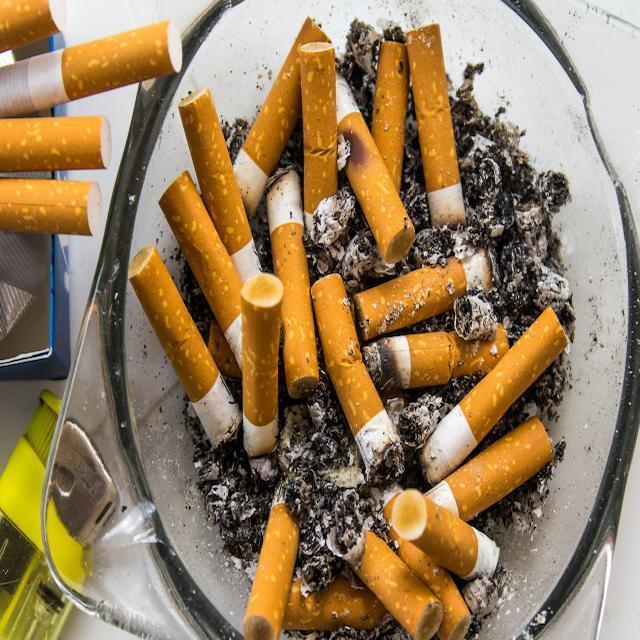rokok: (400, 300, 594, 492), (378, 411, 572, 575), (125, 227, 247, 466), (22, 24, 186, 120), (292, 16, 352, 264), (412, 6, 466, 250), (0, 96, 140, 190), (234, 276, 292, 456), (0, 175, 114, 255)
